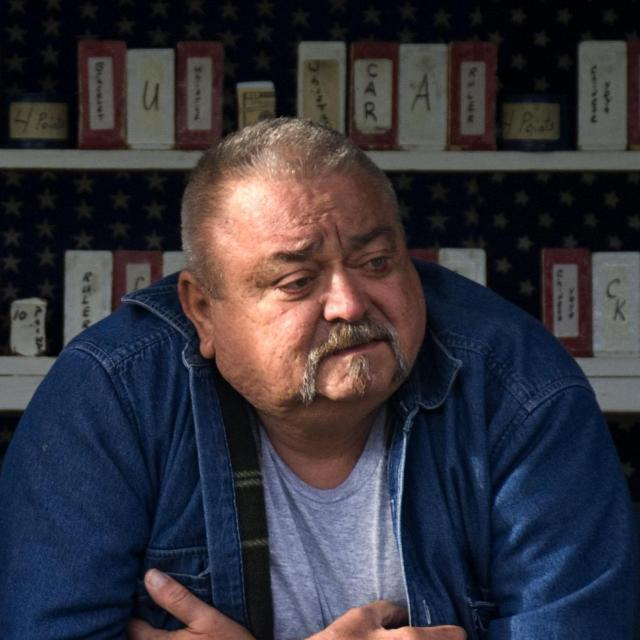no-glass: (274, 251, 396, 296)
